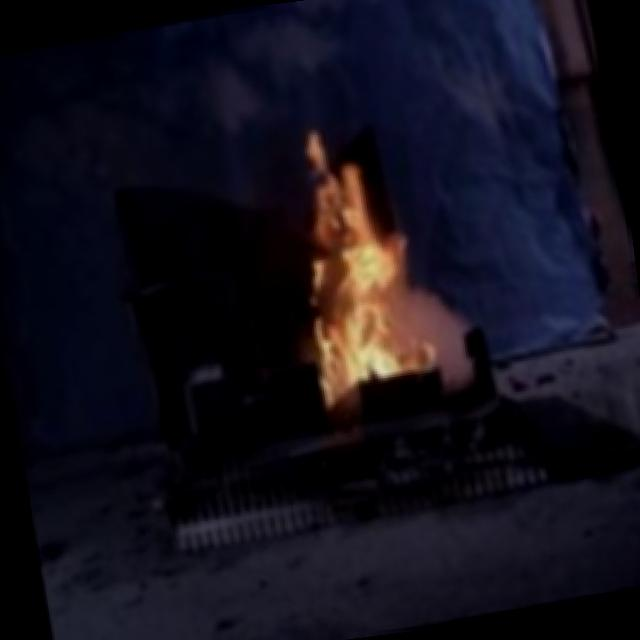fire: (258, 105, 468, 422)
